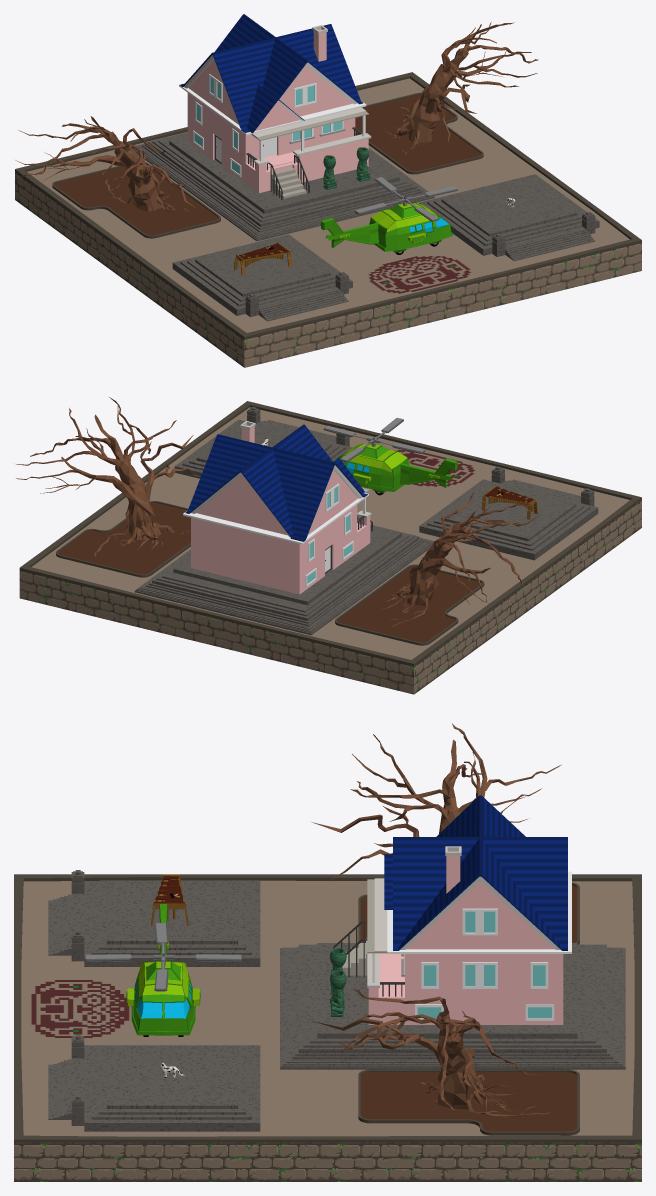
3 views of the same model, one above another, from view 1: azimuth 30°, elevation 25°; view 2: azimuth 150°, elevation 25°; view 3: azimuth 270°, elevation 25° (orthographic). The views are drawn at different scales.
Visible parts, largest first — view 1: Cube.011, Cube.313, VEHICLES_HELICOPTER, OBJRANDOM_MARIMBA; view 2: Cube.011, Cube.313, VEHICLES_HELICOPTER, OBJRANDOM_MARIMBA; view 3: Cube.011, Cube.313, VEHICLES_HELICOPTER, OBJRANDOM_MARIMBA.
Boxes of the visible parts, bbox=[...] form: Cube.011: bbox=[15, 22, 641, 367]; Cube.313: bbox=[179, 14, 371, 199]; VEHICLES_HELICOPTER: bbox=[321, 177, 457, 254]; OBJRANDOM_MARIMBA: bbox=[234, 242, 291, 275]; Cube.011: bbox=[14, 397, 641, 694]; Cube.313: bbox=[183, 421, 372, 594]; VEHICLES_HELICOPTER: bbox=[323, 417, 457, 495]; OBJRANDOM_MARIMBA: bbox=[481, 485, 537, 519]; Cube.011: bbox=[14, 723, 641, 1181]; Cube.313: bbox=[333, 795, 571, 1024]; VEHICLES_HELICOPTER: bbox=[85, 903, 241, 1036]; OBJRANDOM_MARIMBA: bbox=[151, 874, 188, 925].
Size of the model in its own units: 5099 by 1683 by 4000.
Materials: 38 (6 with a texture image).
